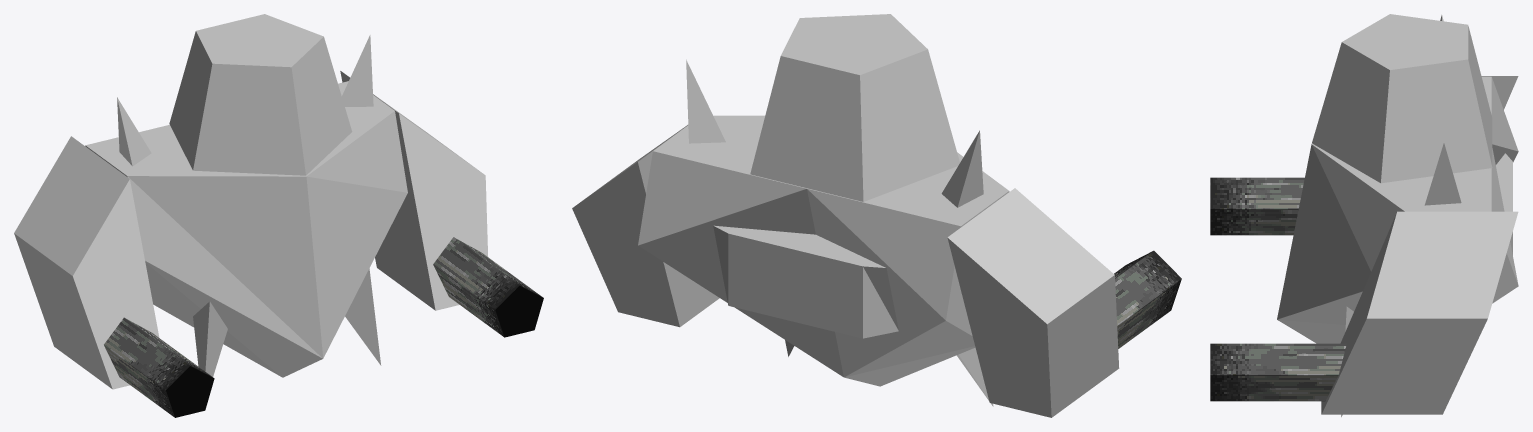
The model's file is Heavy_Driller.obj.
3 views of the same model, side by side, from view 1: azimuth 30°, elevation 25°; view 2: azimuth 150°, elevation 25°; view 3: azimuth 270°, elevation 25° (orthographic). The views are drawn at different scales.
Visible parts, largest first — view 1: Heavy_Driller; view 2: Heavy_Driller; view 3: Heavy_Driller.
Part boxes in pixels (x1,y1,x2,y2): Heavy_Driller: (14, 14, 543, 417); Heavy_Driller: (572, 14, 1181, 417); Heavy_Driller: (1210, 14, 1518, 417).
Size of the model in its own units: 8 by 5.93 by 5.01.
